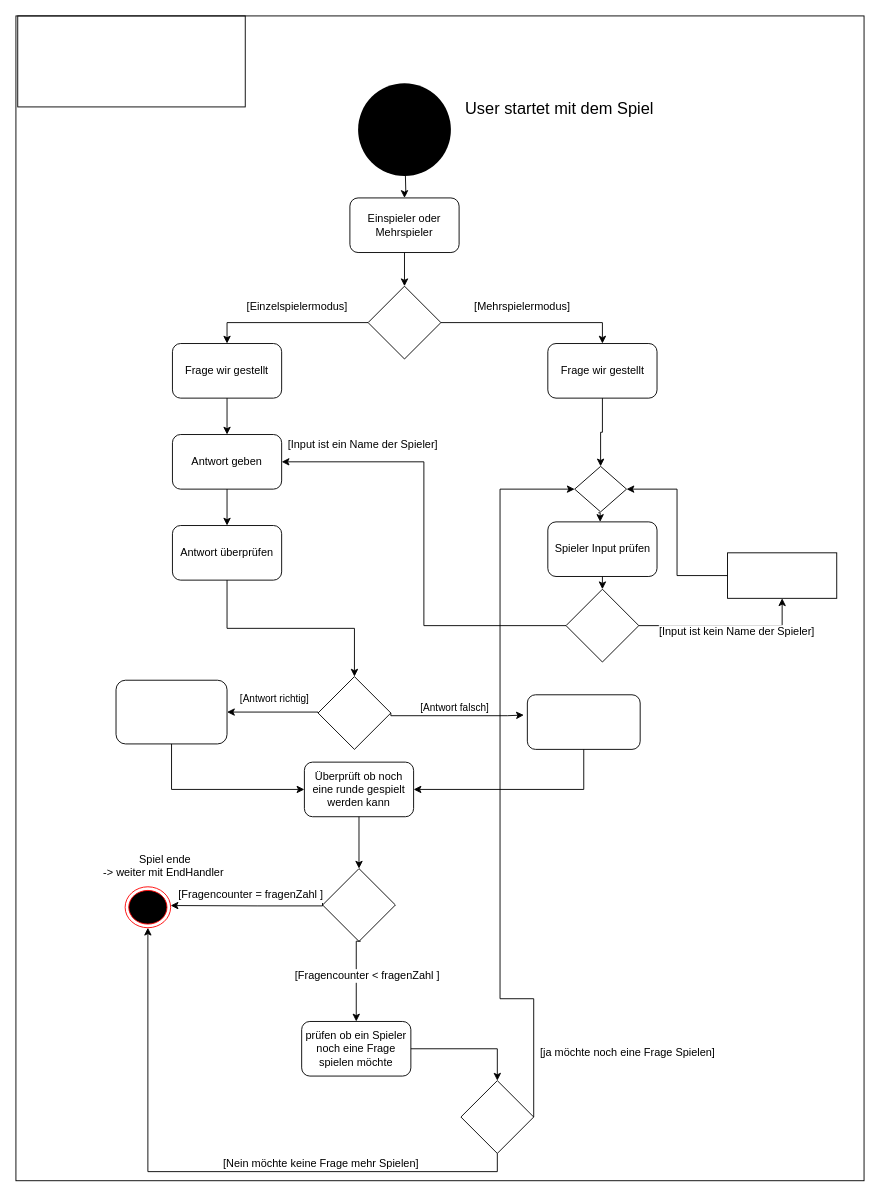
The diagram is 880 pixels wide and 1197 high, and some of its shapes have lost their labels. Here are the shapes that lost their labels. From the top down, the centre of each, then its label:
At (x=131, y=61): "Quiz start".
At (x=782, y=575): "Spieler auffordern noch einmal den Namen zu nennen".
At (x=171, y=711): "Spieler welche die frage richtig beantwortet hat einen Punkt geben".
At (x=583, y=721): "Spieler welche die frage falsch beantwortet hat einen Punkt abziehen".
